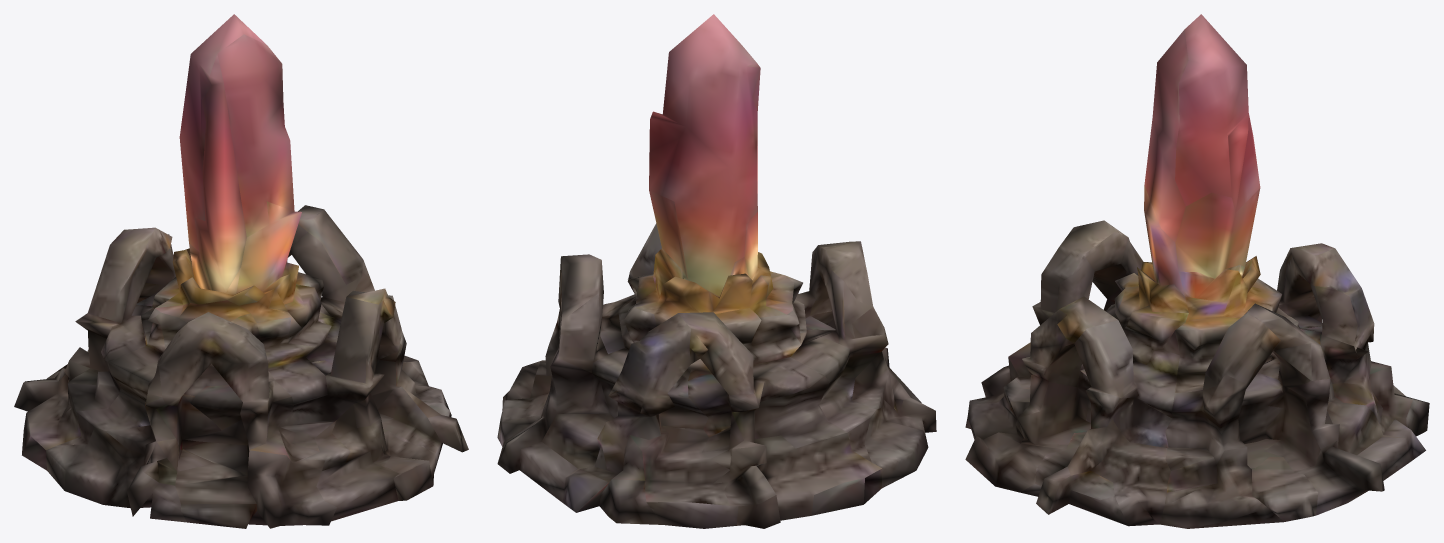
Rendered from core_red.lo.glb.
The picture shows the model from 3 angles, left to right: view 1: azimuth 30°, elevation 25°; view 2: azimuth 150°, elevation 25°; view 3: azimuth 270°, elevation 25°; orthographic projection.
Visible parts, largest first — view 1: tripo_node_84e697ac-22c7-452a-bdb8-5dbf68f08016; view 2: tripo_node_84e697ac-22c7-452a-bdb8-5dbf68f08016; view 3: tripo_node_84e697ac-22c7-452a-bdb8-5dbf68f08016.
Part boxes in pixels (x1,y1,x2,y2): tripo_node_84e697ac-22c7-452a-bdb8-5dbf68f08016: (14, 14, 468, 528); tripo_node_84e697ac-22c7-452a-bdb8-5dbf68f08016: (497, 14, 936, 528); tripo_node_84e697ac-22c7-452a-bdb8-5dbf68f08016: (965, 14, 1429, 528).
Bounding box in the file's own units: 0.9266 × 1 × 0.9905.
1 material, 1 textured.
